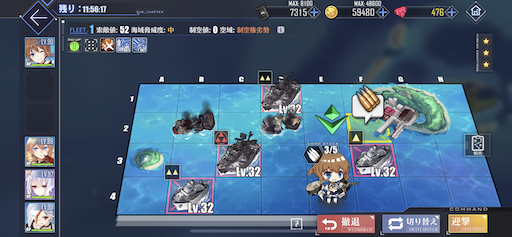lv1: (347, 132, 400, 179)
lv2: (163, 164, 214, 212), (258, 69, 300, 108)
lv3: (215, 128, 261, 176)
